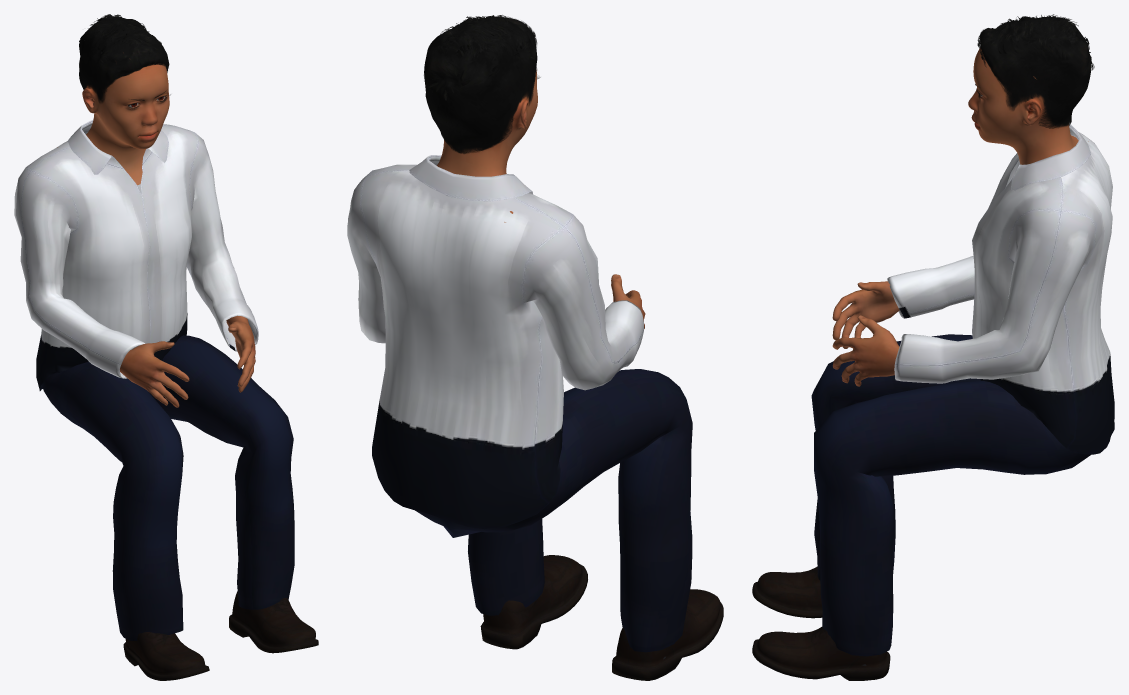
The model's file is b3_sit_idle.glb.
The picture shows the model from 3 angles, left to right: view 1: azimuth 30°, elevation 25°; view 2: azimuth 150°, elevation 25°; view 3: azimuth 270°, elevation 25°; orthographic projection. The views are drawn at different scales.
Parts seen in each view (by area): view 1: b3.male_casualsuit03, b3, b3.shoes01, b3.short01; view 2: b3.male_casualsuit03, b3.short01, b3.shoes01, b3; view 3: b3.male_casualsuit03, b3, b3.short01, b3.shoes01.
Boxes of the visible parts, x1,y1,x2,y2 form: b3.male_casualsuit03: [14, 120, 294, 640]; b3: [57, 64, 255, 407]; b3.shoes01: [123, 591, 318, 680]; b3.short01: [79, 14, 169, 103]; b3.male_casualsuit03: [347, 155, 692, 652]; b3.short01: [424, 15, 537, 153]; b3.shoes01: [480, 555, 723, 680]; b3: [437, 69, 645, 328]; b3.male_casualsuit03: [811, 124, 1114, 656]; b3: [832, 47, 1088, 386]; b3.short01: [977, 14, 1094, 128]; b3.shoes01: [752, 566, 890, 680].
Size of the model in its own units: 0.4295 by 1.16 by 0.61.
7 materials, 7 textured.
